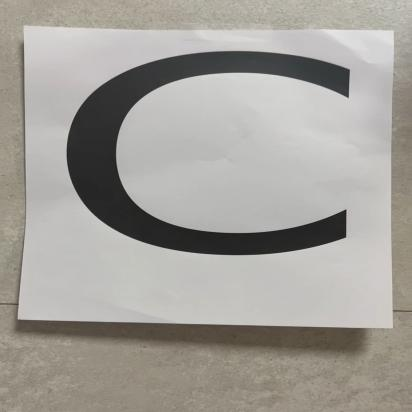seat: (24, 31, 387, 326)
